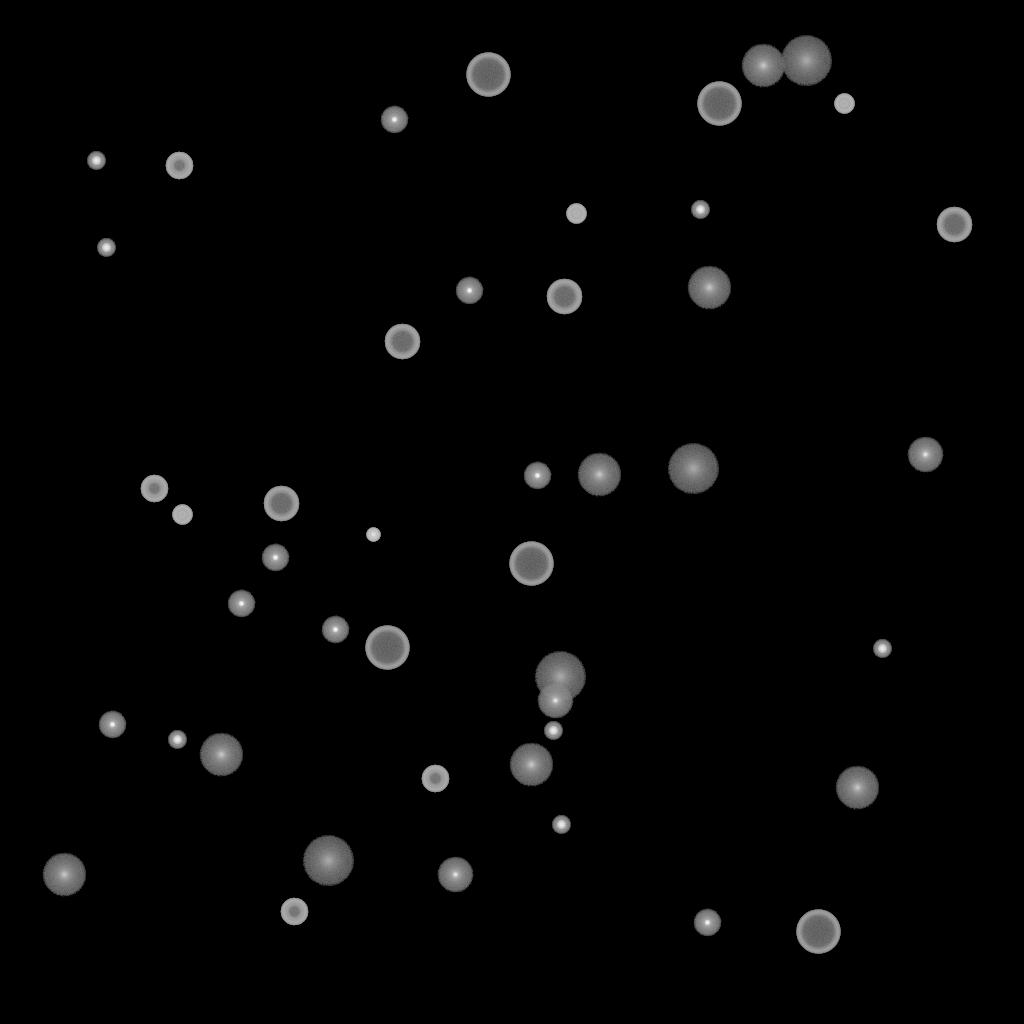depth:-10: (693, 909, 721, 937), (227, 590, 255, 618), (380, 106, 408, 134), (321, 616, 349, 644), (98, 711, 126, 739), (523, 462, 551, 490), (455, 277, 483, 305), (261, 544, 289, 572)
depth:-20: (87, 152, 105, 170), (873, 640, 891, 658), (168, 731, 186, 749), (544, 722, 562, 740), (552, 816, 570, 834), (97, 239, 115, 257), (691, 201, 709, 219)
depth:-30: (366, 528, 380, 542)
depth:-40: (172, 505, 192, 525), (834, 94, 854, 114), (566, 204, 586, 224)
depth:-50: (165, 152, 193, 180), (140, 475, 168, 503), (280, 898, 308, 926), (421, 765, 449, 793)
depth:-60: (384, 324, 420, 360), (263, 486, 299, 522), (936, 207, 972, 243), (546, 279, 582, 315)
depth:-70: (796, 910, 840, 954), (365, 626, 409, 670), (466, 53, 510, 97), (509, 542, 553, 586), (697, 82, 741, 126)
depth:0: (437, 857, 473, 893), (537, 683, 573, 719), (907, 437, 943, 473)
depth:10: (509, 743, 553, 787), (741, 44, 785, 88), (199, 733, 243, 777), (687, 266, 731, 310), (42, 853, 86, 897), (577, 453, 621, 497), (835, 766, 879, 810)
depth:20: (780, 36, 832, 86), (302, 836, 354, 886), (667, 444, 719, 494), (534, 652, 586, 702)
